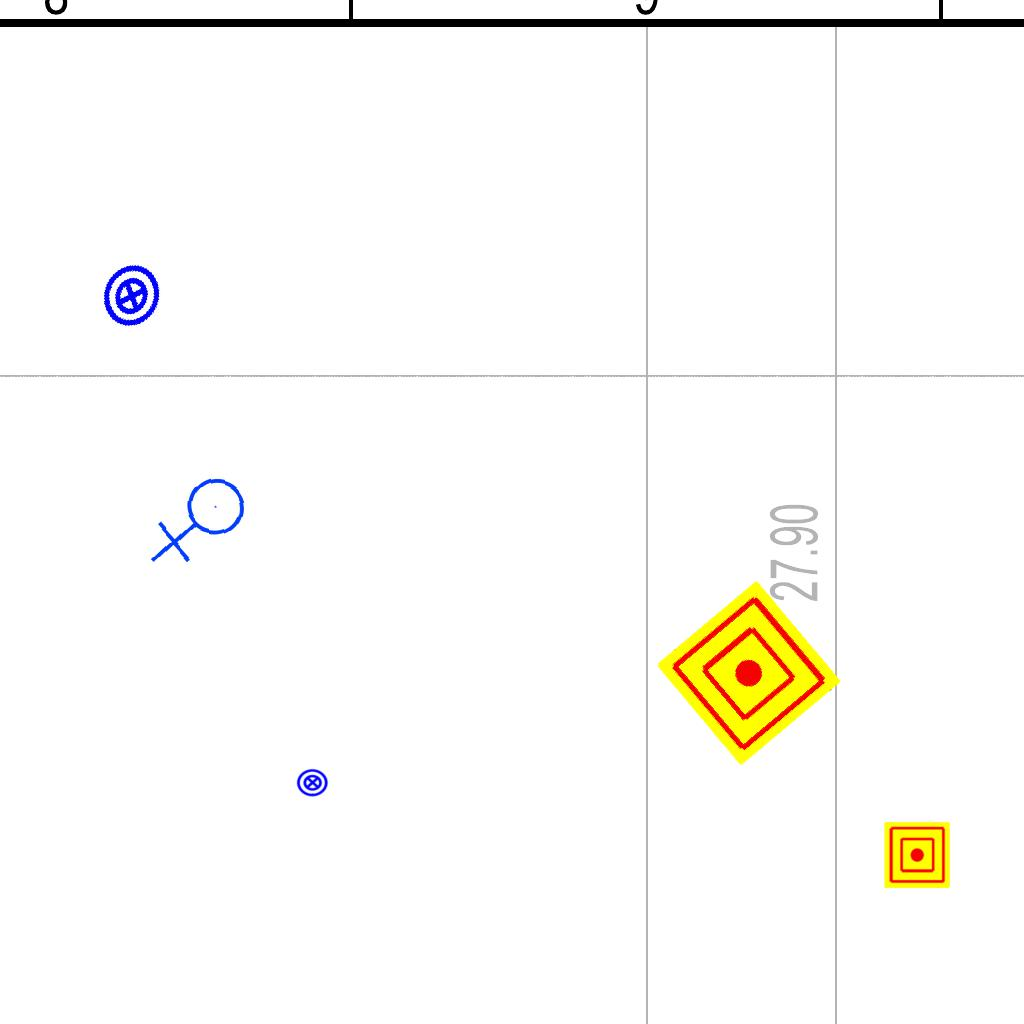Elektroanschluss_allgemein_230V_Geraeteanschlussdose_230V: (149, 472, 256, 574)
NAM-Nichtautomatischer_Melder: (656, 580, 842, 766), (884, 822, 950, 888)
Taster_beleuchtet: (89, 253, 175, 339), (296, 766, 329, 799)
